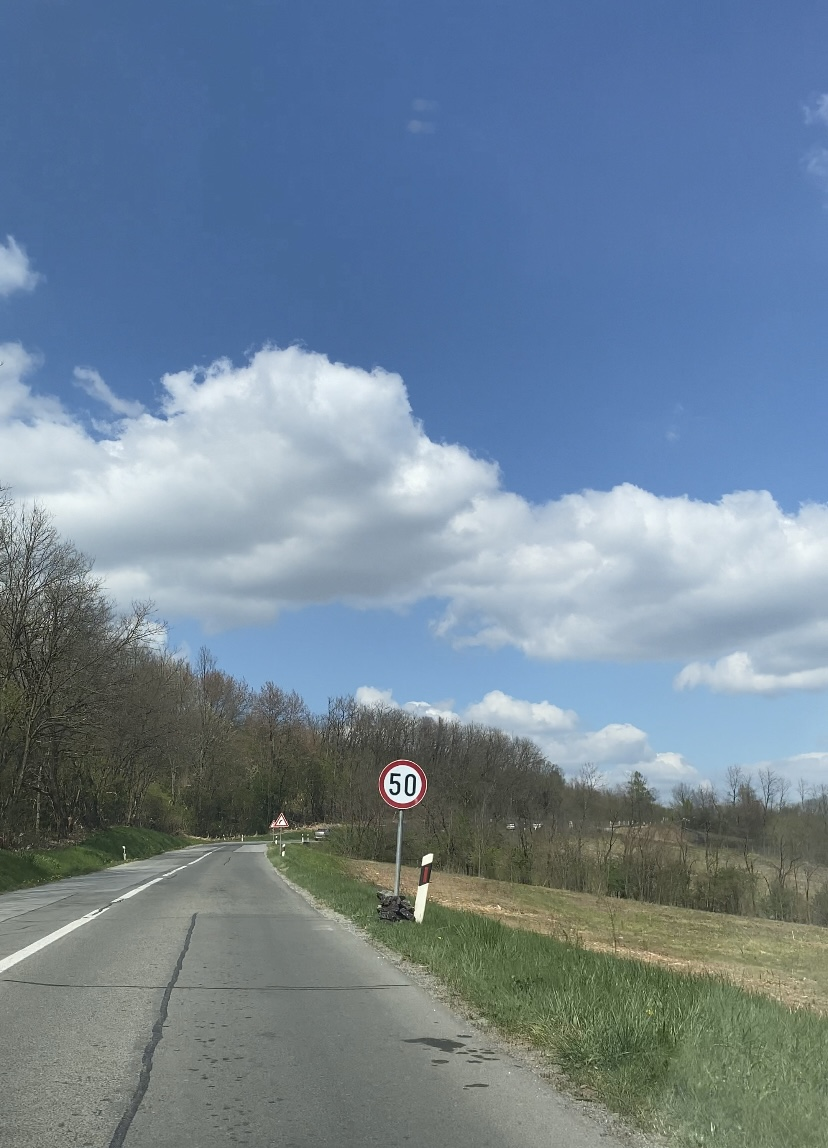Ograničenje brzine 50: (378, 759, 428, 809)
